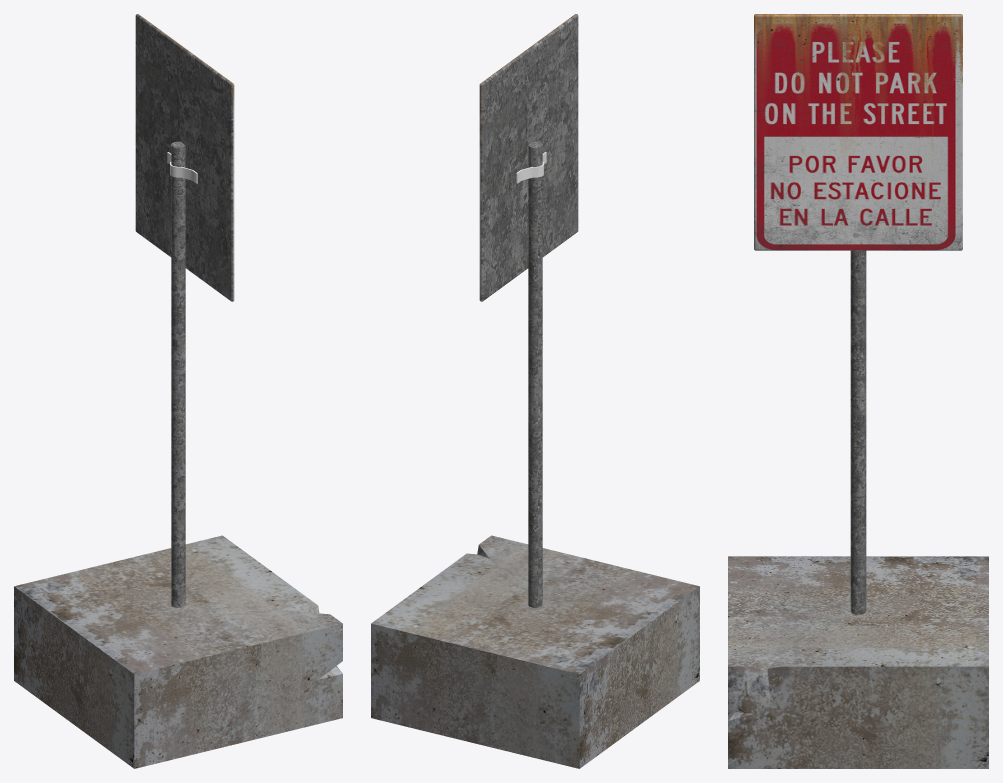
The model's file is road_sign.glb.
3 renders of one model, left to right at view 1: azimuth 30°, elevation 25°; view 2: azimuth 150°, elevation 25°; view 3: azimuth 270°, elevation 25°, orthographic. The views are drawn at different scales.
Parts seen in each view (by area): view 1: Cube, Cube_1, Cylinder; view 2: Cube, Cube_1, Cylinder; view 3: Cube, Cube_1, Cylinder.
Part boxes in pixels (<box>): Cube: <box>14,535,342,768</box>; Cube_1: <box>135,14,234,301</box>; Cylinder: <box>171,141,185,607</box>; Cube: <box>371,535,699,768</box>; Cube_1: <box>479,14,578,301</box>; Cylinder: <box>528,141,542,607</box>; Cube: <box>728,556,988,768</box>; Cube_1: <box>754,14,962,250</box>; Cylinder: <box>850,250,866,614</box>.
Size of the model in its own units: 200 by 595 by 200.
Materials: 2 (1 with a texture image).
